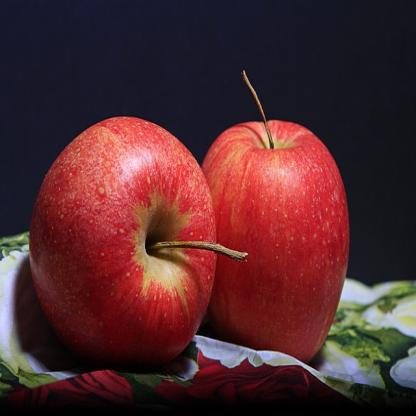apple: (31, 108, 212, 375), (192, 123, 353, 369)
